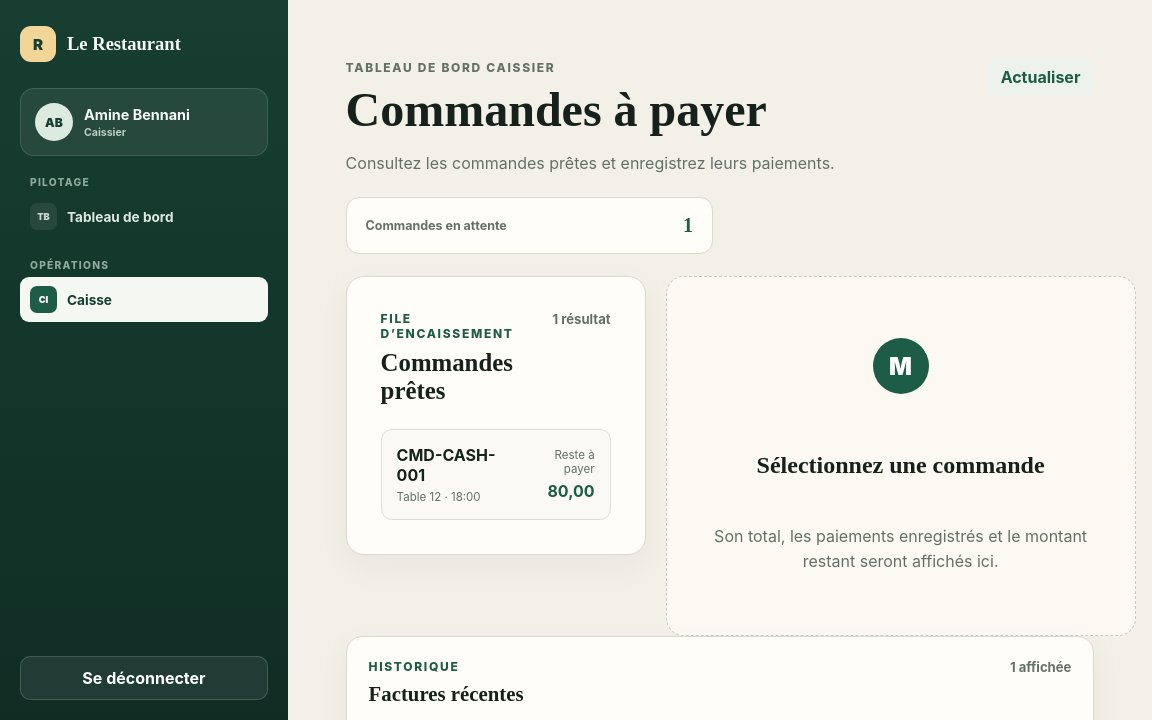
it: interface du caissier › affiche les paiements détaillés et les factures récentes
Click the submit button.
click(496, 474)  # box [381, 429, 611, 520]
(page scrolled)
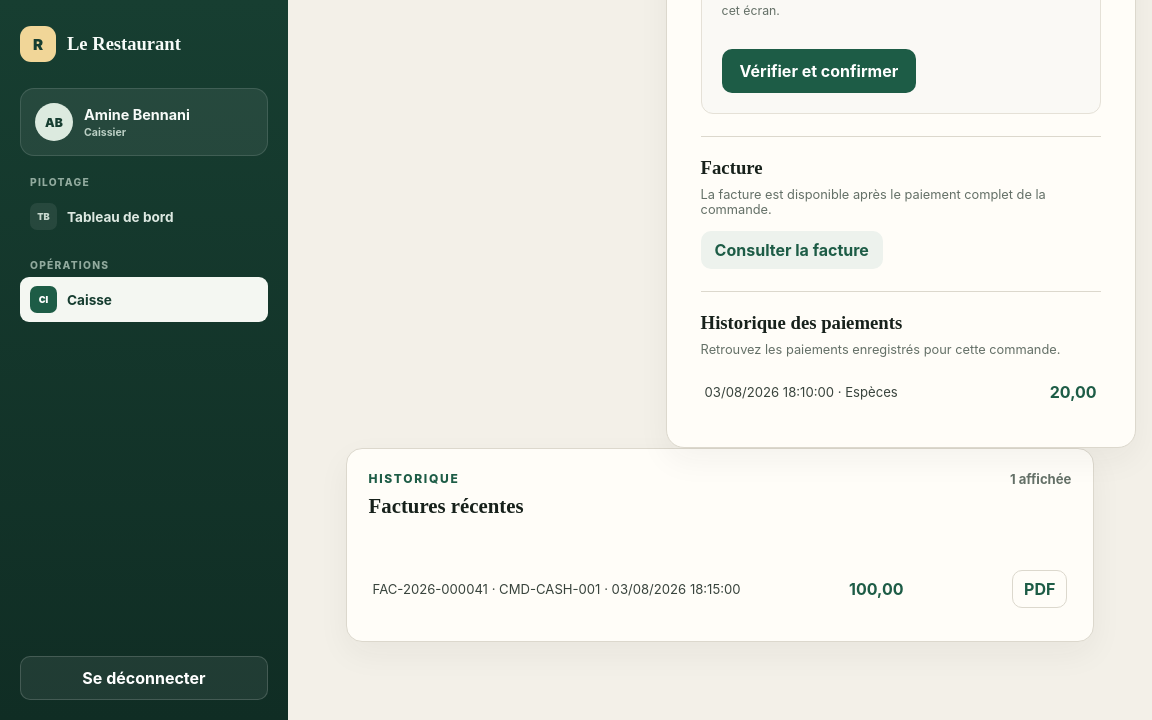
Expected: the heading "Historique des paiements" is shown, [701, 312, 902, 334]
